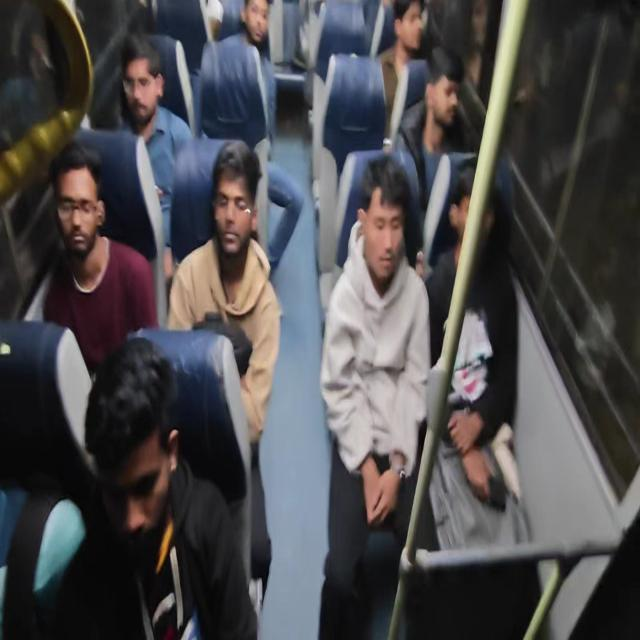person: (62, 367, 192, 640), (42, 149, 112, 315), (351, 163, 420, 300), (205, 141, 256, 265), (108, 36, 173, 124), (444, 191, 505, 271), (416, 55, 461, 132), (386, 0, 438, 48), (240, 0, 272, 48)
